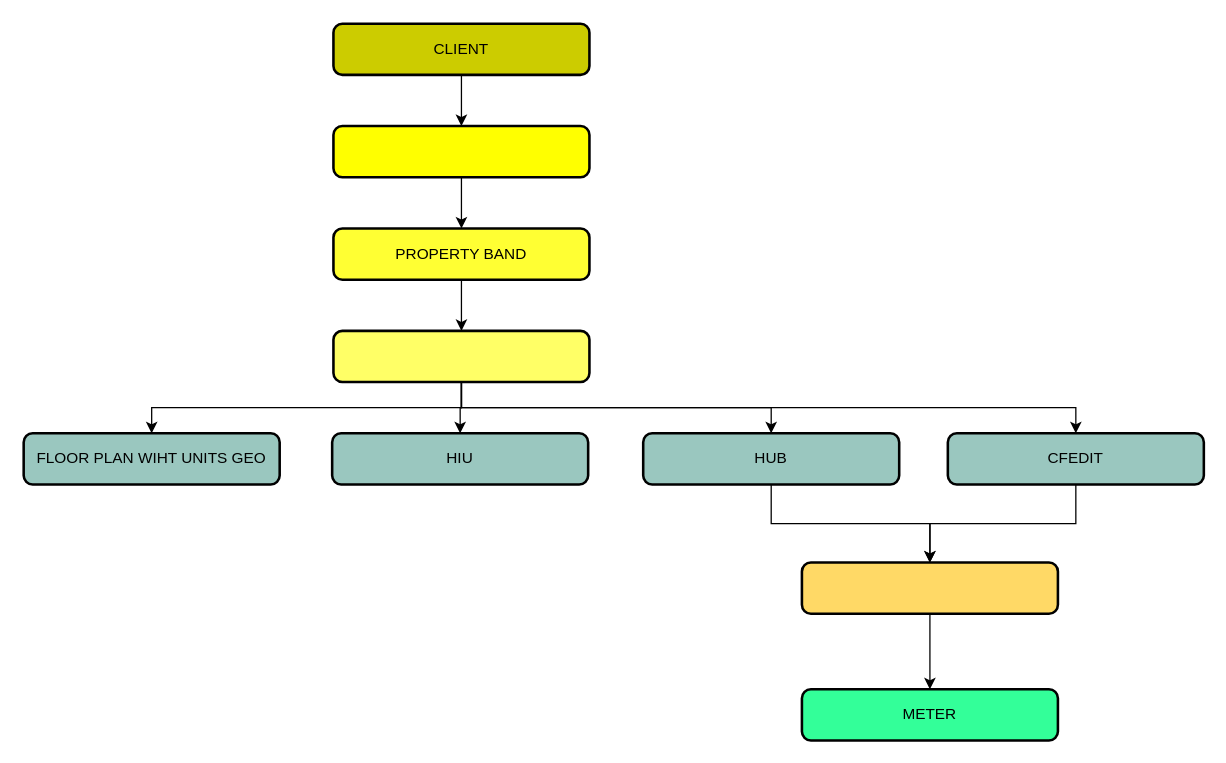
Image size: 1226x763. Some labels were removed from this diagram. Here are the shapes that lost their labels. From the top down, the centre of each, then its label:
point 461,151: NETWORK
point 461,356: PROPERTY
point 929,587: SUPPLY POINT
